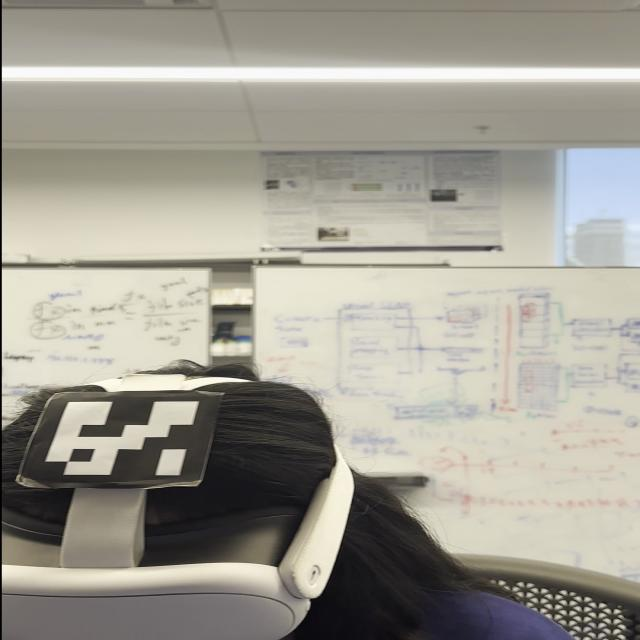Aruco Marker: (16, 388, 224, 490)
VR Headset: (2, 373, 356, 638)
